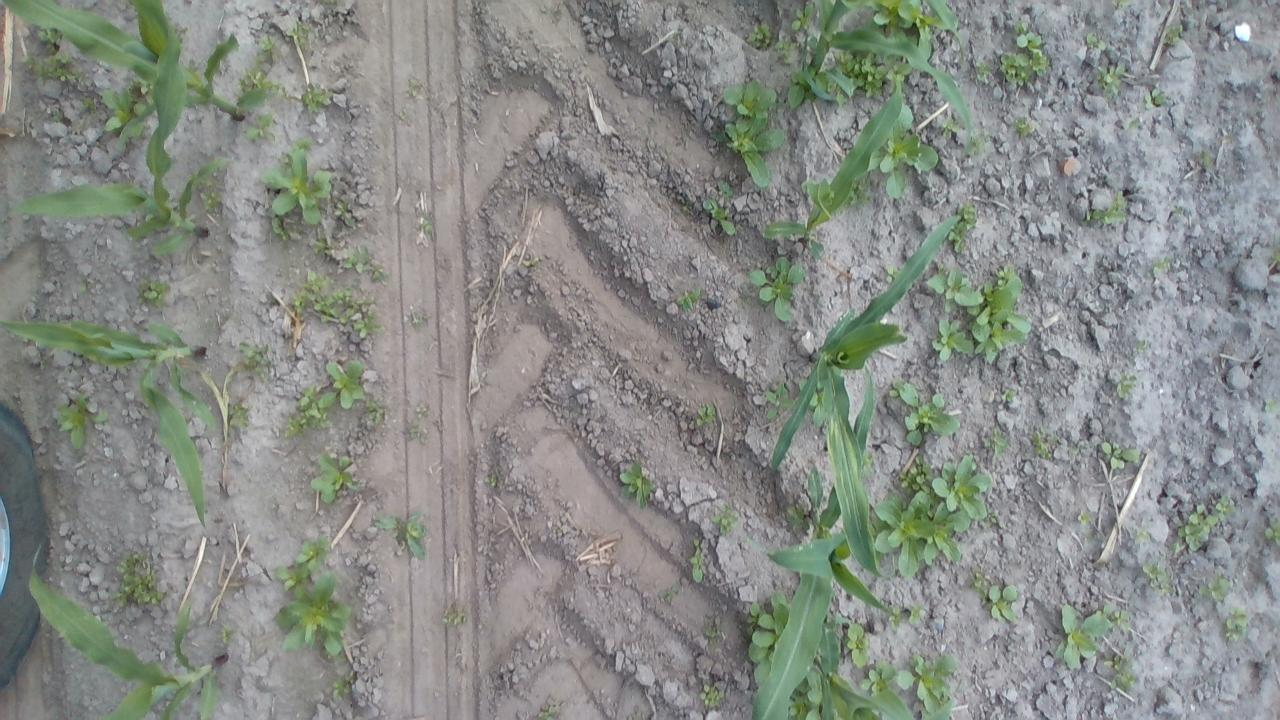Maize: (770, 215, 962, 585), (8, 0, 230, 257), (744, 365, 890, 720), (0, 316, 216, 532), (1, 0, 248, 150), (27, 545, 228, 720), (787, 0, 971, 159), (762, 71, 902, 260), (771, 588, 954, 720)
Weeds: (868, 491, 971, 579), (711, 78, 785, 188), (273, 570, 352, 662), (866, 103, 938, 199), (969, 265, 1031, 364), (260, 150, 332, 226), (826, 48, 912, 103), (932, 455, 999, 524), (896, 652, 958, 720), (314, 278, 382, 338), (899, 382, 960, 445), (1054, 604, 1112, 670), (749, 256, 805, 322), (274, 536, 329, 597), (110, 552, 166, 606), (372, 509, 428, 562), (56, 394, 108, 450), (926, 262, 984, 312), (861, 0, 922, 46), (746, 601, 776, 686), (310, 455, 362, 503), (100, 86, 147, 139), (284, 386, 330, 438), (318, 359, 364, 411), (20, 54, 84, 86), (1012, 20, 1048, 76), (786, 665, 822, 720), (931, 318, 975, 362), (1178, 505, 1218, 552), (618, 462, 654, 510), (789, 62, 825, 110), (1082, 190, 1128, 226), (292, 270, 330, 313), (238, 68, 288, 100), (799, 375, 828, 427), (947, 202, 977, 252), (859, 660, 895, 696), (899, 455, 932, 493), (703, 198, 736, 236), (844, 621, 870, 669), (986, 584, 1017, 624), (1000, 51, 1034, 86), (135, 276, 170, 310), (1142, 561, 1174, 597), (1104, 653, 1134, 691), (1101, 440, 1139, 470), (1094, 64, 1126, 99), (238, 342, 270, 376), (765, 382, 795, 418), (842, 172, 872, 208), (301, 83, 333, 115), (1222, 606, 1250, 642), (1197, 572, 1230, 600), (1032, 426, 1058, 461), (264, 206, 289, 242), (406, 403, 428, 443), (710, 504, 739, 534), (342, 244, 373, 272), (246, 113, 275, 142), (689, 539, 706, 584), (786, 502, 810, 532), (984, 426, 1008, 456), (37, 26, 62, 54), (334, 199, 358, 228), (790, 3, 814, 32), (284, 20, 310, 46), (744, 22, 770, 48), (332, 670, 356, 698), (968, 131, 992, 159), (773, 35, 797, 63), (254, 35, 274, 68), (969, 566, 988, 600), (676, 288, 699, 312), (439, 606, 468, 625), (699, 684, 724, 706), (228, 403, 250, 428), (312, 233, 336, 255), (1116, 374, 1138, 398), (696, 403, 718, 427), (1216, 496, 1237, 521), (1012, 116, 1034, 138), (1148, 256, 1172, 276), (1264, 516, 1280, 546), (1161, 24, 1183, 45), (168, 19, 188, 42), (200, 190, 221, 211), (1086, 32, 1108, 52), (940, 116, 960, 138), (367, 399, 382, 428), (1145, 88, 1165, 109), (886, 605, 902, 630), (1111, 609, 1130, 630), (974, 61, 993, 82), (372, 262, 389, 285), (288, 138, 311, 155), (884, 262, 902, 283), (1133, 525, 1151, 546), (188, 172, 214, 186), (658, 584, 681, 599), (906, 604, 922, 625), (701, 626, 718, 645), (718, 180, 734, 200), (538, 706, 558, 720), (411, 312, 425, 332), (890, 379, 904, 398), (79, 96, 96, 111), (1198, 150, 1212, 168), (807, 36, 820, 54), (1077, 509, 1091, 525), (220, 624, 232, 642), (50, 109, 66, 122), (1264, 398, 1278, 412), (1001, 388, 1015, 402), (78, 276, 88, 293), (408, 80, 418, 97), (421, 218, 432, 233), (679, 195, 690, 210), (540, 4, 552, 16), (1134, 340, 1146, 352), (1083, 530, 1093, 544), (484, 476, 498, 486), (1170, 542, 1181, 554), (1110, 0, 1130, 6), (1272, 248, 1280, 262), (399, 108, 408, 120), (1129, 118, 1140, 127), (322, 0, 334, 5)
